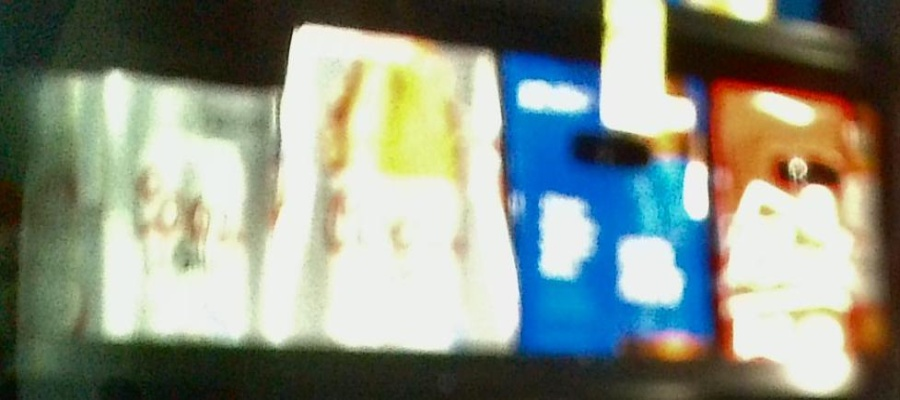bottle: (272, 18, 508, 343), (507, 46, 714, 361), (711, 80, 898, 368), (102, 68, 263, 343), (1, 67, 99, 339)
